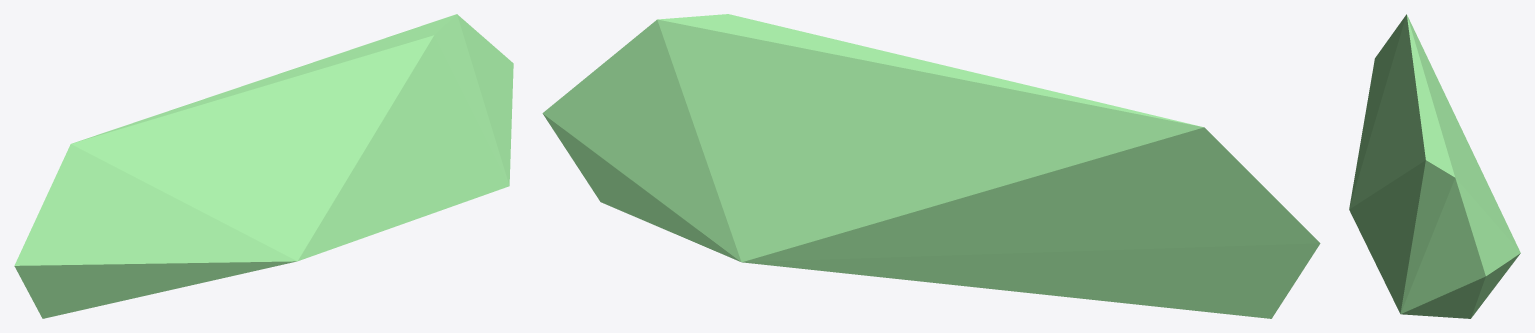
The model's file is linkhou_LR4_R560_link4_respondable_coll_11.dae.
The picture shows the model from 3 angles, left to right: view 1: azimuth 30°, elevation 25°; view 2: azimuth 150°, elevation 25°; view 3: azimuth 270°, elevation 25°; orthographic projection. The views are drawn at different scales.
Parts seen in each view (by area): view 1: Node_00000209DB3AB530; view 2: Node_00000209DB3AB530; view 3: Node_00000209DB3AB530.
Boxes of the visible parts, <box> form: Node_00000209DB3AB530: <box>14,14,513,318</box>; Node_00000209DB3AB530: <box>542,14,1320,318</box>; Node_00000209DB3AB530: <box>1349,14,1520,318</box>.
Size of the model in its own units: 0.0432 by 0.012 by 0.0135.
